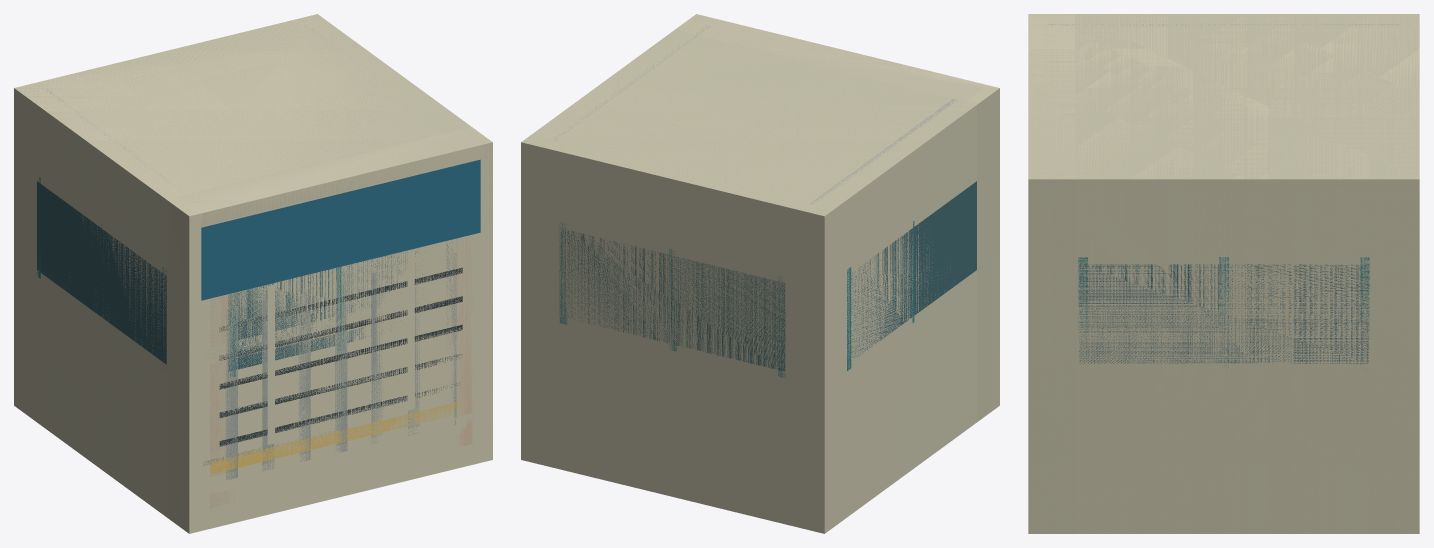
The model's file is Rainline_Identity_v3.glb.
3 views of the same model, side by side, from view 1: azimuth 30°, elevation 25°; view 2: azimuth 150°, elevation 25°; view 3: azimuth 270°, elevation 25° (orthographic). The views are drawn at different scales.
Parts seen in each view (by area): view 1: loading_wall__metal, loading_ground__metal, transit_ground__metal, loading_wall__glazing, residential_upper__mineral, loading_upper__metal, transit_upper__metal, transit_ground__mineral, control_wall__metal; view 2: loading_ground__metal, loading_wall__metal, loading_wall__glazing, loading_deck__metal; view 3: loading_ground__metal, loading_wall__metal, loading_wall__glazing.
Part boxes in pixels (x1,y1,x2,y2): loading_wall__metal: [14, 15, 492, 533]; loading_ground__metal: [14, 14, 492, 533]; transit_ground__metal: [201, 159, 480, 444]; loading_wall__glazing: [37, 181, 415, 371]; residential_upper__mineral: [204, 236, 477, 508]; loading_upper__metal: [225, 253, 456, 479]; transit_upper__metal: [201, 160, 479, 411]; transit_ground__mineral: [201, 405, 403, 518]; control_wall__metal: [101, 225, 453, 377]; loading_ground__metal: [521, 14, 999, 533]; loading_wall__metal: [523, 15, 999, 531]; loading_wall__glazing: [561, 181, 976, 371]; loading_deck__metal: [554, 25, 956, 204]; loading_ground__metal: [1028, 14, 1419, 533]; loading_wall__metal: [1028, 14, 1419, 533]; loading_wall__glazing: [1079, 264, 1368, 363].
Bounding box in the file's own units: 1 × 1 × 1.
